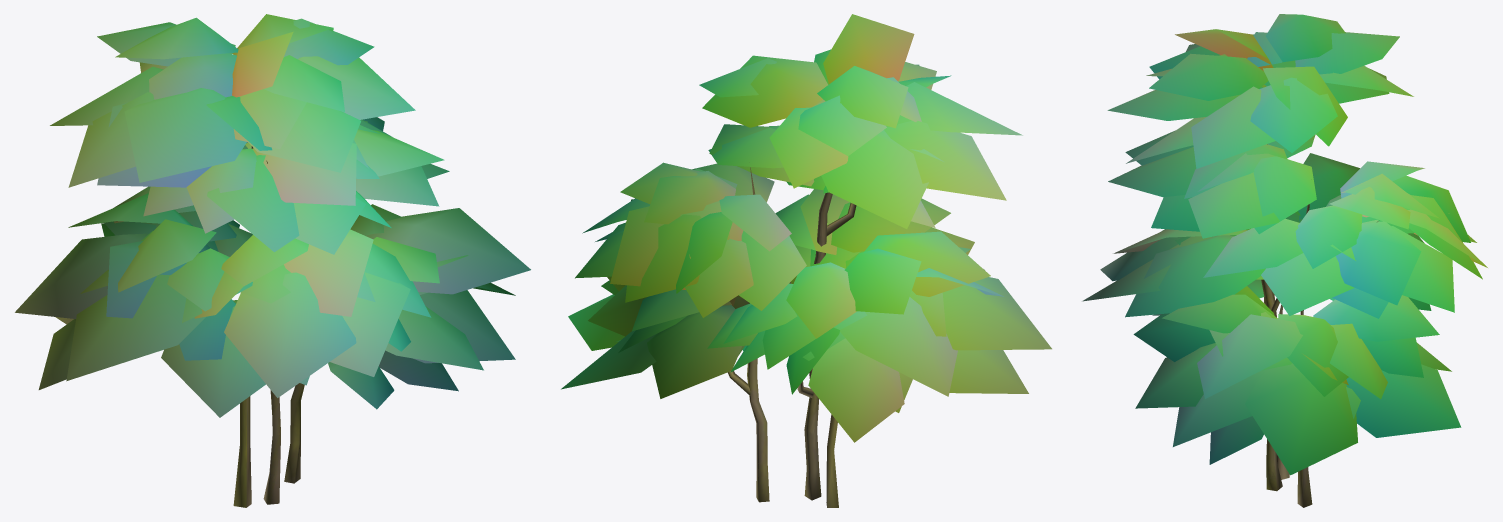
Rendered from Homeworld_Exterior_Common_Plant_Grass_03_Lod0.fbx.
3 renders of one model, left to right at view 1: azimuth 30°, elevation 25°; view 2: azimuth 150°, elevation 25°; view 3: azimuth 270°, elevation 25°, orthographic. The views are drawn at different scales.
Parts seen in each view (by area): view 1: Area_Ly_Grass_Common_Sbb_07_Leaf_Lod0, Area_Ly_Grass_Common_Sbb_07_Bark_Lod0; view 2: Area_Ly_Grass_Common_Sbb_07_Leaf_Lod0, Area_Ly_Grass_Common_Sbb_07_Bark_Lod0; view 3: Area_Ly_Grass_Common_Sbb_07_Leaf_Lod0, Area_Ly_Grass_Common_Sbb_07_Bark_Lod0.
Boxes of the visible parts, x1=… form: Area_Ly_Grass_Common_Sbb_07_Leaf_Lod0: x1=15, y1=14, x2=530, y2=417; Area_Ly_Grass_Common_Sbb_07_Bark_Lod0: x1=233, y1=146, x2=304, y2=507; Area_Ly_Grass_Common_Sbb_07_Leaf_Lod0: x1=561, y1=14, x2=1051, y2=442; Area_Ly_Grass_Common_Sbb_07_Bark_Lod0: x1=727, y1=167, x2=856, y2=507; Area_Ly_Grass_Common_Sbb_07_Leaf_Lod0: x1=1082, y1=14, x2=1487, y2=475; Area_Ly_Grass_Common_Sbb_07_Bark_Lod0: x1=1261, y1=144, x2=1378, y2=507.
Size of the model in its own units: 3.41 by 3.32 by 2.7.
